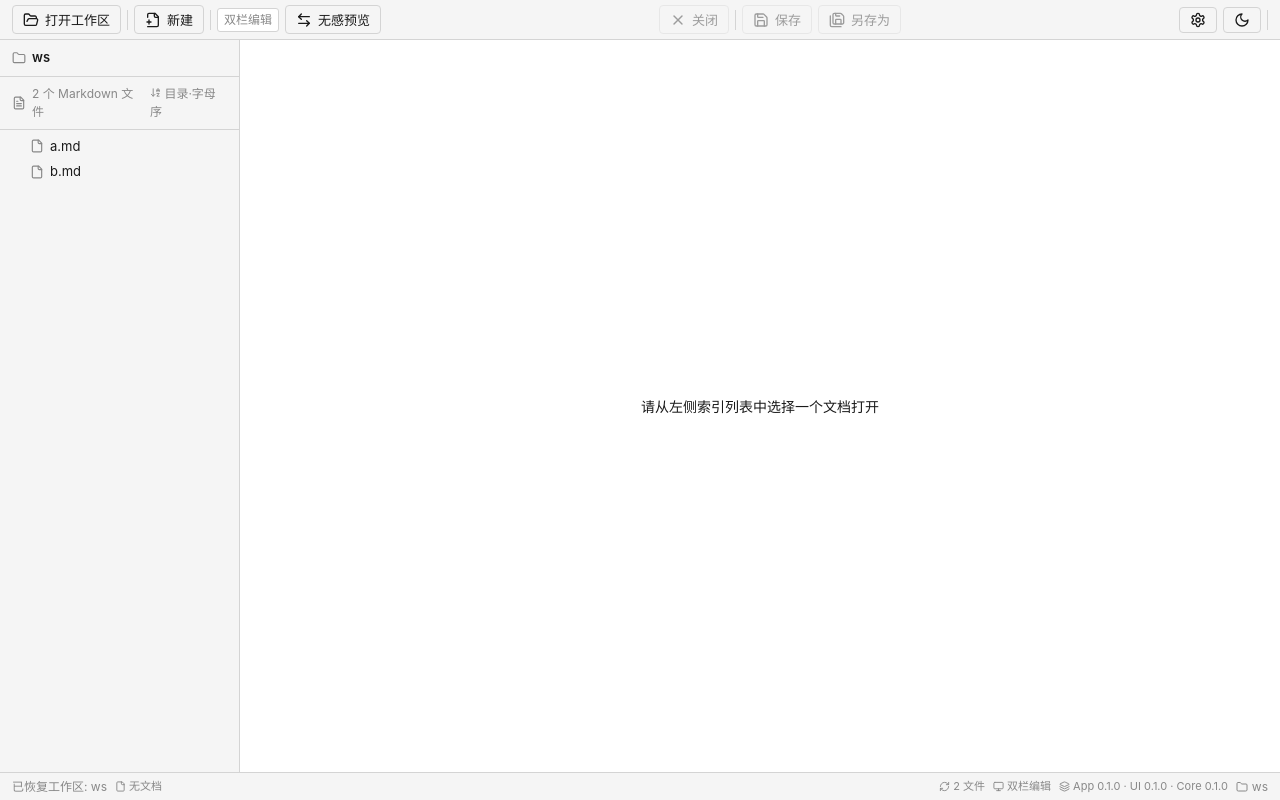
Scenario: App.tsx document switch (T38) › latest-request-wins: rapid A→B clicks, stale A response does not override B
// Click A, THEN click B before A resolves
Click the button with class "tree-node-row--file" showing "a.md".
click(55, 146)  # box left=30, top=138, right=80, bottom=154
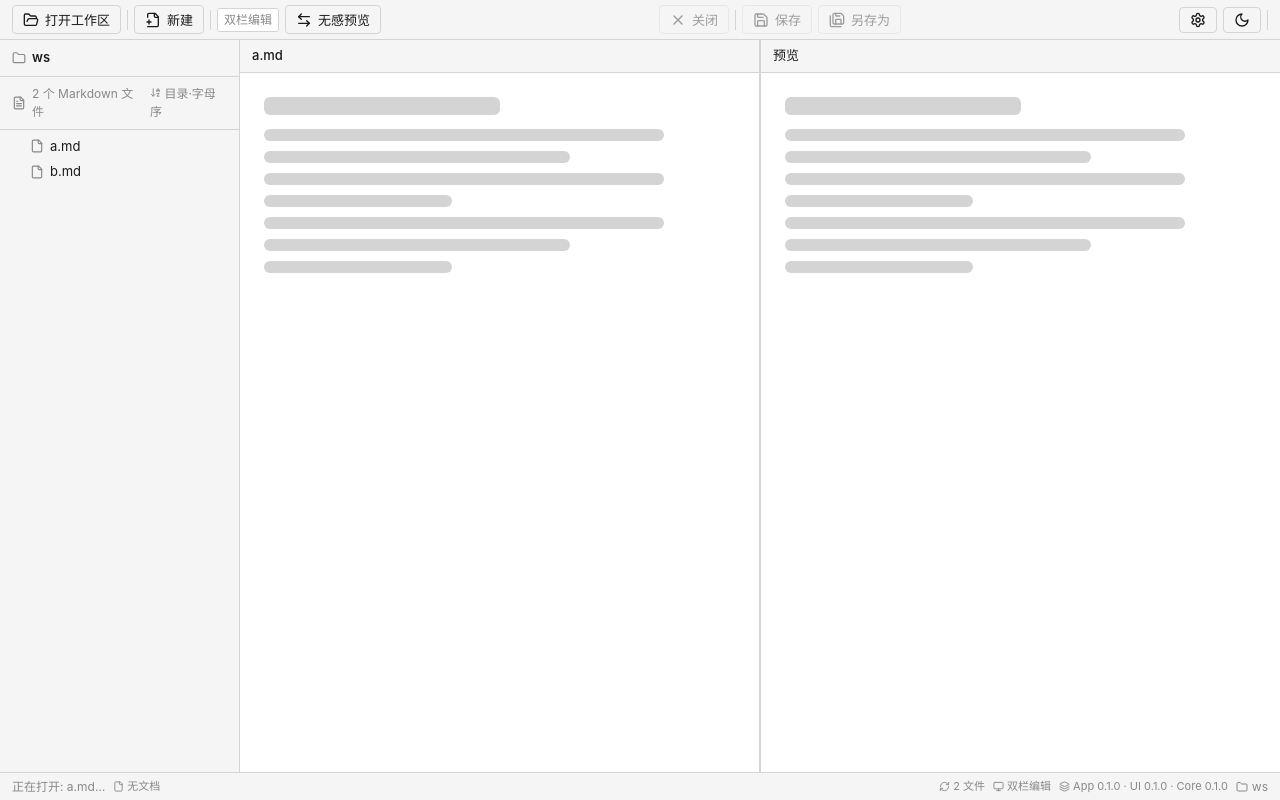
Click the button with class "tree-node-row--file" showing "b.md".
click(56, 171)  # box left=30, top=163, right=81, bottom=179
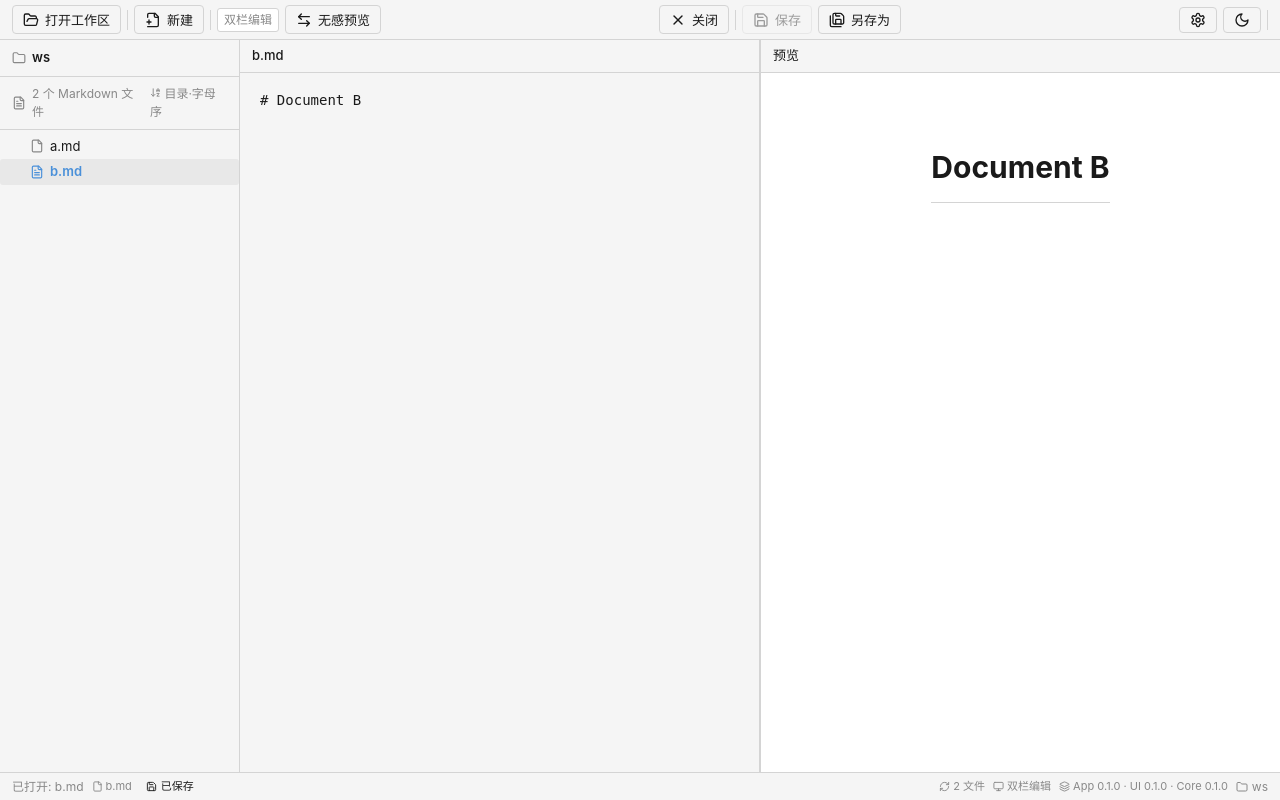
Expected: the text "b.md" is shown, left=50, top=162, right=82, bottom=182
Expected: the text "Document B" is shown, left=931, top=142, right=1110, bottom=202
Expected: no elements with class "content-opening-skeleton" are shown
